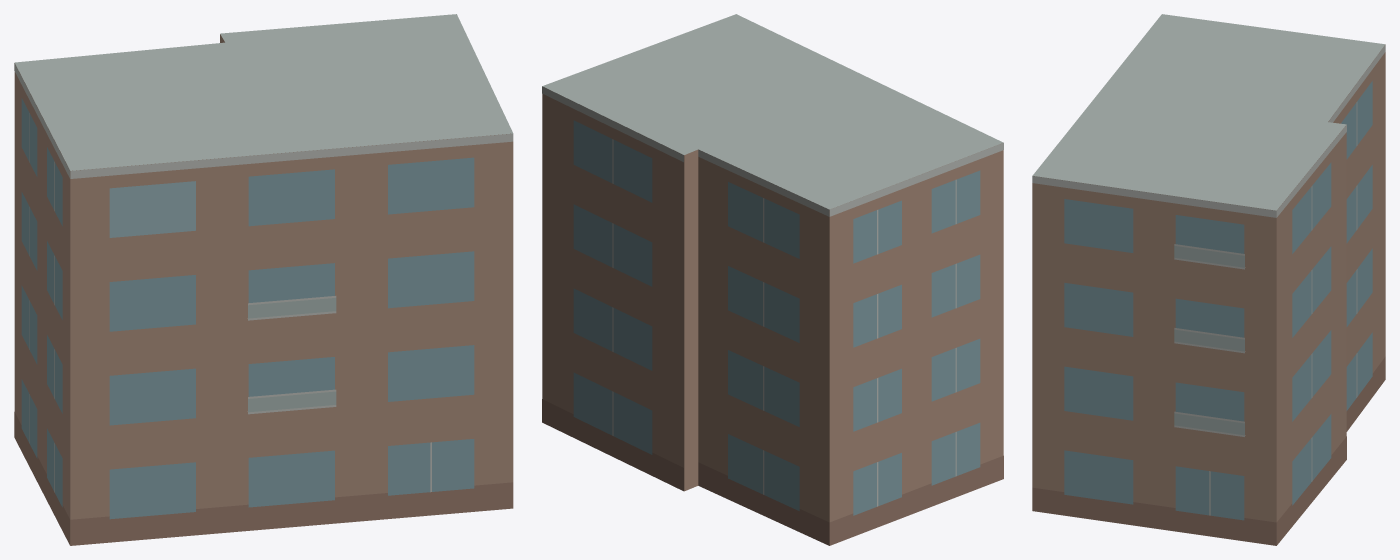
The model's file is survey-upis-32831318.glb.
The picture shows the model from 3 angles, left to right: view 1: azimuth 30°, elevation 25°; view 2: azimuth 150°, elevation 25°; view 3: azimuth 270°, elevation 25°; orthographic projection. The views are drawn at different scales.
Parts seen in each view (by area): view 1: survey-upis-32831318.tmp; view 2: survey-upis-32831318.tmp; view 3: survey-upis-32831318.tmp.
Part boxes in pixels (<box>): survey-upis-32831318.tmp: <box>14,14,513,545</box>; survey-upis-32831318.tmp: <box>542,14,1003,545</box>; survey-upis-32831318.tmp: <box>1032,14,1385,545</box>.
Size of the model in its own units: 14.1 by 11.2 by 10.7.
